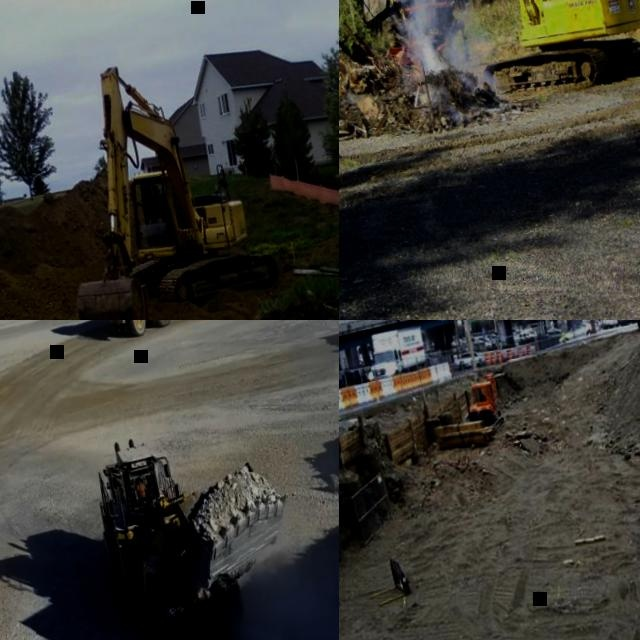Hardhat: (152, 183, 160, 190)
NO-Hardhat: (137, 478, 143, 484)
NO-Mask: (154, 193, 160, 199)
NO-Safety Vest: (150, 197, 167, 217), (138, 485, 148, 500)
Person: (140, 183, 170, 223), (133, 477, 153, 501)
Safety Cone: (484, 353, 492, 365), (497, 350, 504, 363), (490, 351, 497, 364), (517, 347, 525, 357), (526, 345, 533, 355), (507, 349, 514, 359)
machinery: (32, 40, 295, 320), (77, 403, 320, 640), (339, 0, 640, 126), (428, 372, 510, 451), (86, 320, 189, 344)
vehicle: (360, 324, 430, 382), (556, 320, 599, 343), (458, 349, 484, 369)
